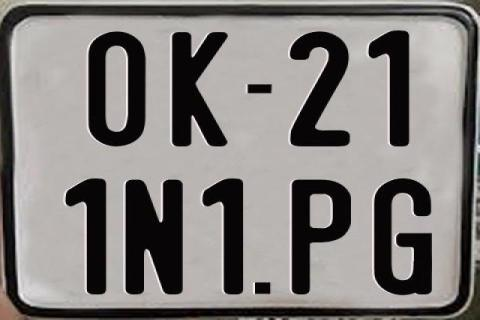0: (287, 29, 353, 145), (88, 31, 149, 147), (202, 178, 245, 298), (366, 31, 409, 147), (65, 176, 106, 293)
G: (374, 177, 436, 295)
K: (172, 30, 234, 148)
N: (124, 177, 188, 293)
P: (290, 180, 355, 298)
